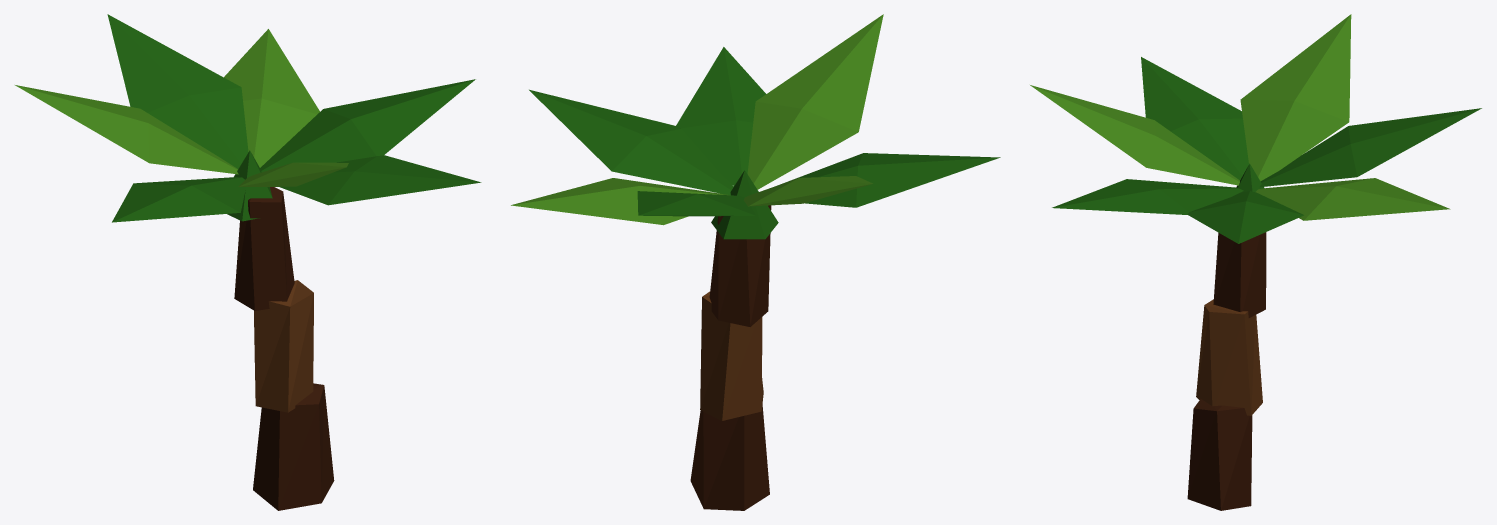
The model's file is world_tree_cycad_m.fbx.
3 renders of one model, left to right at view 1: azimuth 30°, elevation 25°; view 2: azimuth 150°, elevation 25°; view 3: azimuth 270°, elevation 25°, orthographic. The views are drawn at different scales.
Visible parts, largest first — view 1: world_tree_cycad_m; view 2: world_tree_cycad_m; view 3: world_tree_cycad_m.
Boxes of the visible parts, <box> form: world_tree_cycad_m: <box>15,14,481,510</box>; world_tree_cycad_m: <box>511,14,1000,510</box>; world_tree_cycad_m: <box>1030,14,1481,510</box>.
Bounding box in the file's own units: 921 × 885 × 924.
